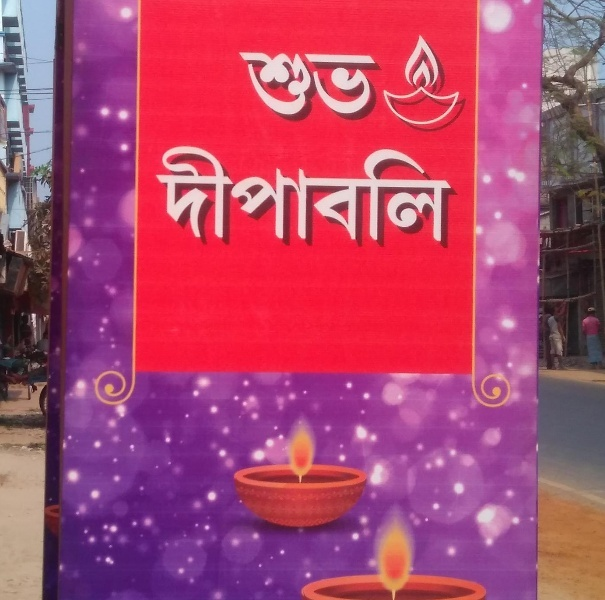text: (161, 143, 176, 251), (177, 143, 192, 251), (193, 143, 208, 251), (209, 143, 224, 251), (225, 143, 240, 251), (241, 143, 256, 251), (257, 143, 272, 251), (273, 143, 288, 251), (289, 143, 304, 251), (305, 143, 320, 251), (321, 143, 336, 251), (337, 143, 352, 251), (353, 143, 368, 251), (369, 143, 384, 251), (385, 143, 400, 251), (401, 143, 416, 251), (417, 143, 432, 251), (433, 143, 448, 251), (241, 47, 256, 125), (257, 47, 272, 125), (273, 47, 288, 125), (289, 47, 304, 125), (305, 47, 320, 125), (321, 47, 336, 125), (337, 47, 352, 125), (353, 47, 368, 125), (369, 47, 384, 125), (449, 143, 459, 251), (152, 143, 160, 251), (236, 47, 240, 125), (385, 47, 386, 125)
